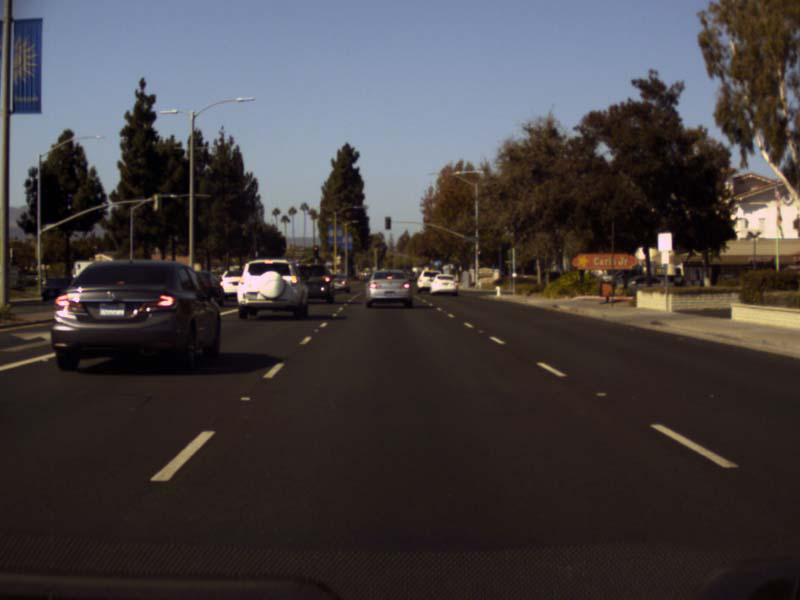Red: (312, 244, 319, 258)
